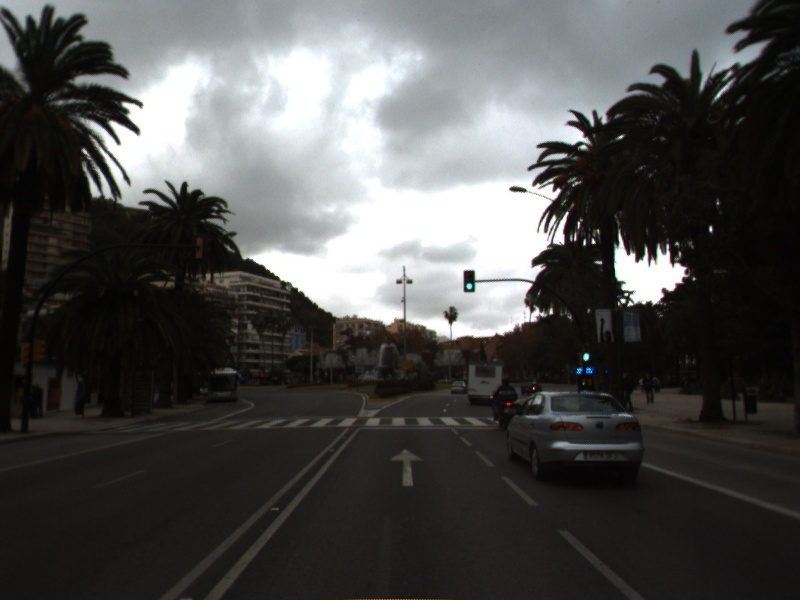STRAIGHT: (388, 447, 426, 488)
